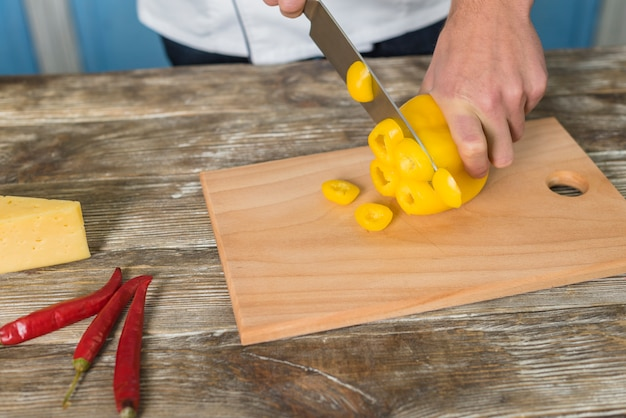knife: (308, 2, 442, 190)
